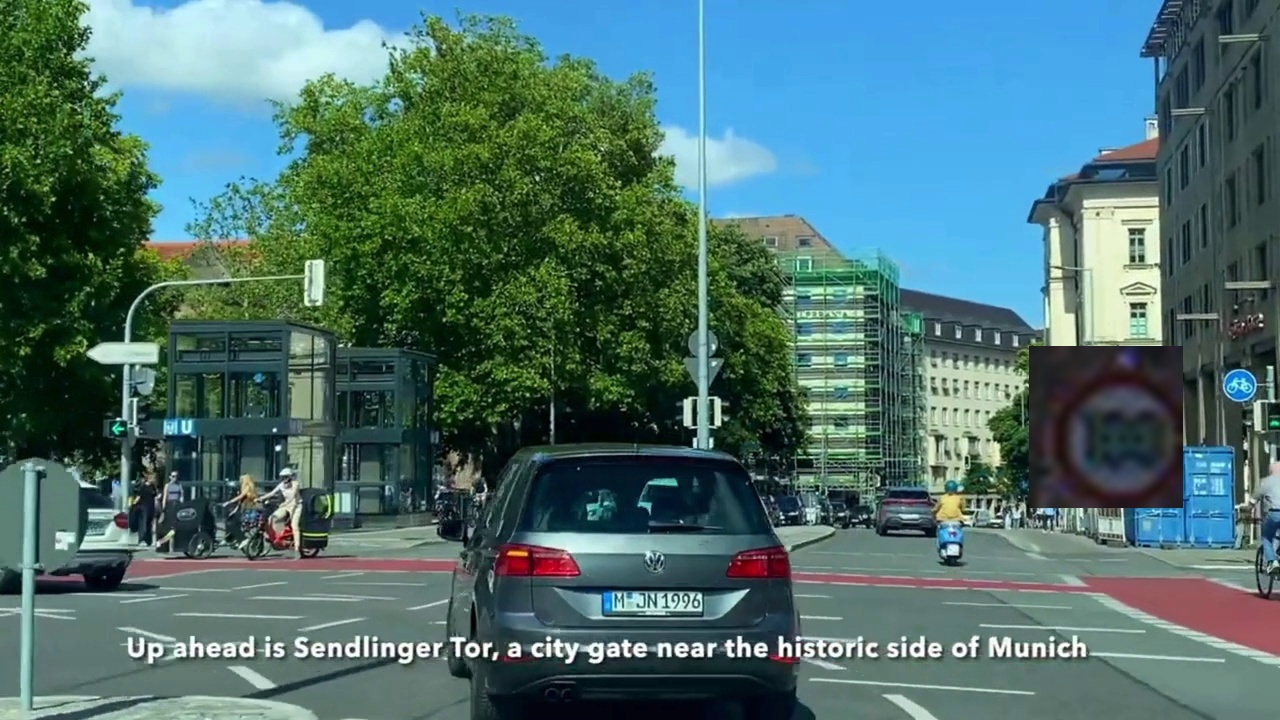Speed 100: (1029, 346, 1183, 508)
